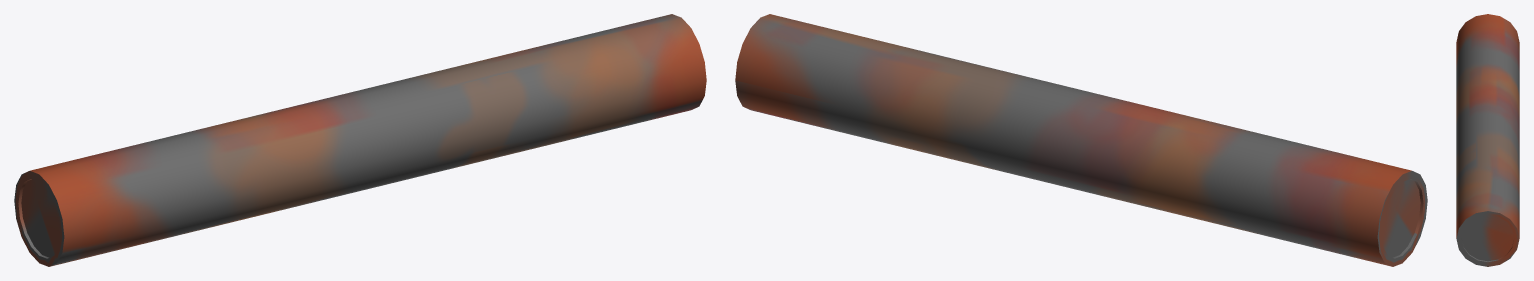
The model's file is Pipe 1.glb.
3 renders of one model, left to right at view 1: azimuth 30°, elevation 25°; view 2: azimuth 150°, elevation 25°; view 3: azimuth 270°, elevation 25°, orthographic. The views are drawn at different scales.
Parts seen in each view (by area): view 1: Cylinder; view 2: Cylinder; view 3: Cylinder.
Boxes of the visible parts, bbox=[...] form: Cylinder: bbox=[14, 14, 706, 266]; Cylinder: bbox=[735, 14, 1427, 266]; Cylinder: bbox=[1456, 14, 1519, 266].
Bounding box in the file's own units: 1.7 × 0.2255 × 0.2302.
1 material, 1 textured.
